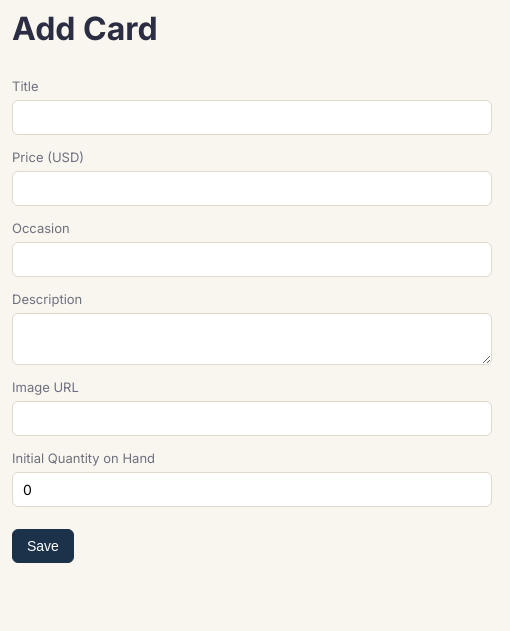
CardFormPage › shows an error message when the create fails
Type "Bad Card" into the field labelled "Title" at (252, 117), box [12, 100, 492, 135]
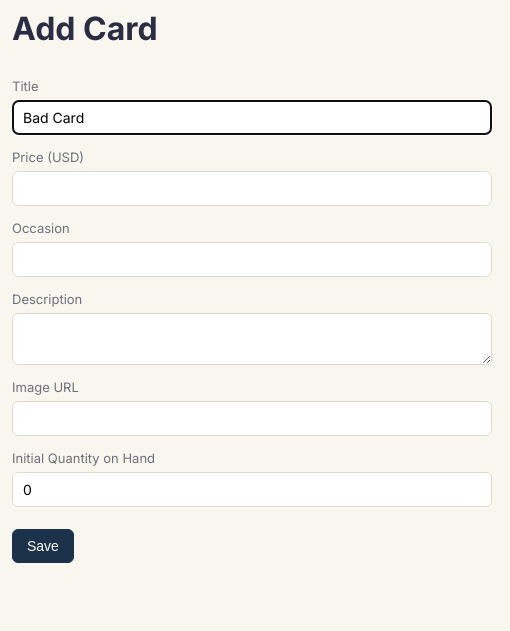
Type "1.00" into the number field labelled "Price (USD)" at (252, 188), box [12, 171, 492, 206]
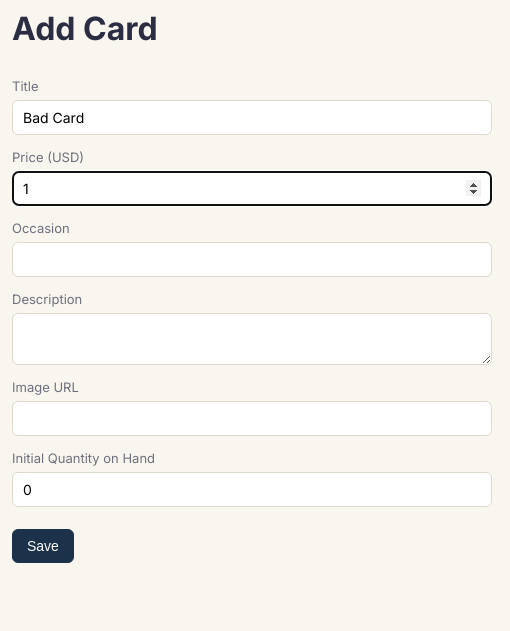
Click the button "Save" at (43, 546), box [12, 529, 74, 563]
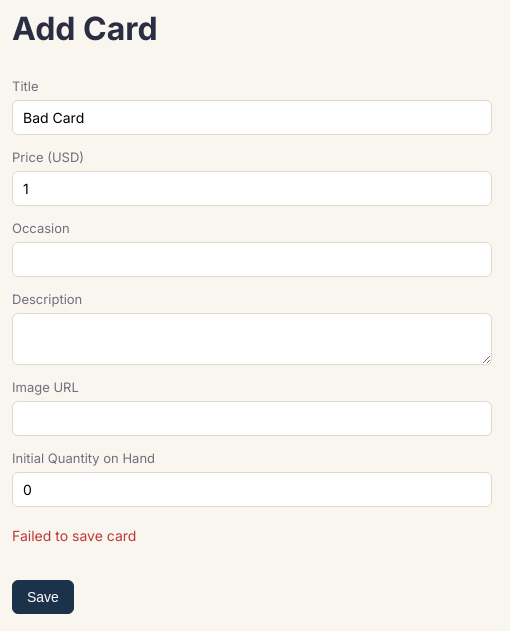
Now the message reads "Failed to save card", box [12, 527, 136, 544]
